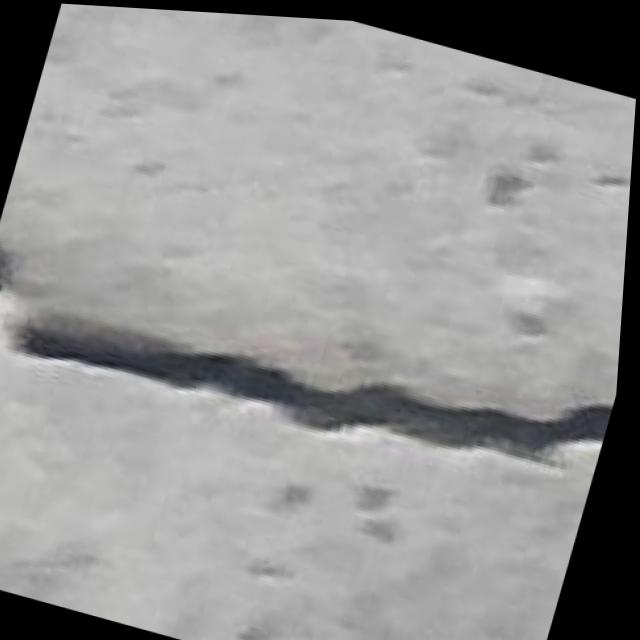Crack: (0, 216, 627, 511)
